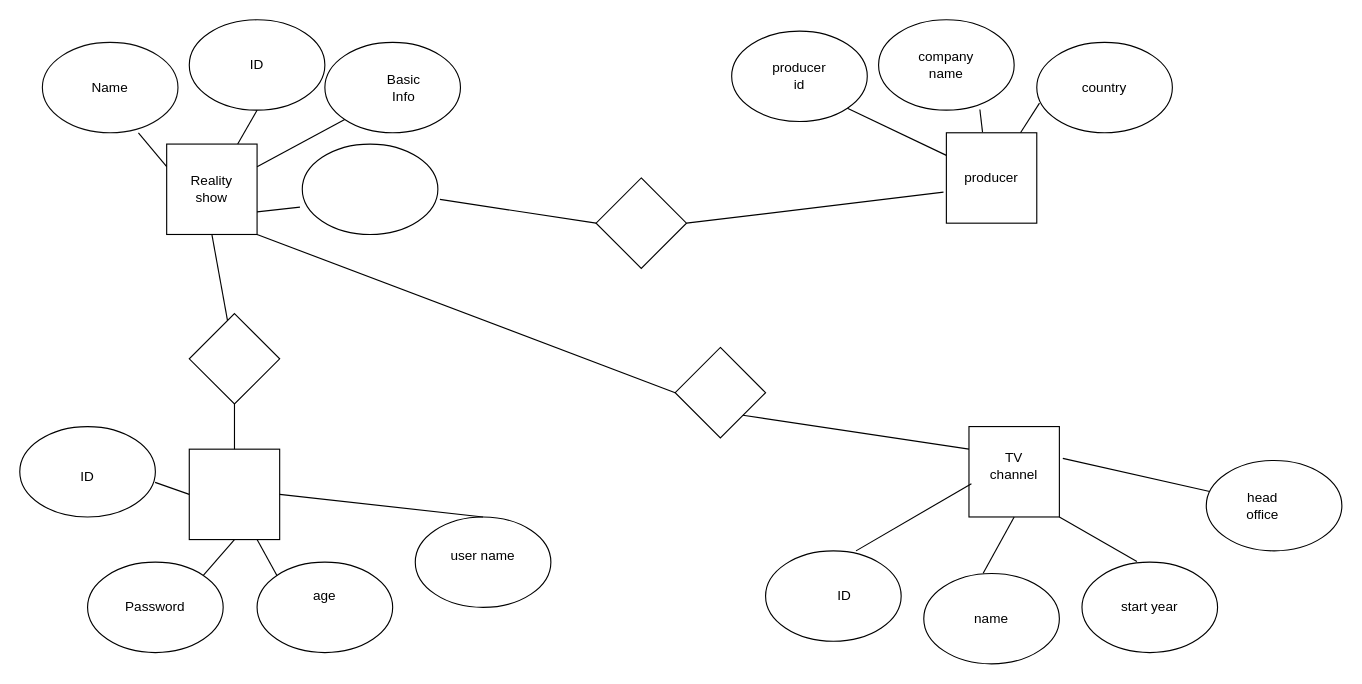
This 1362x684 diagram has some shape labels left out. Each missing label, with the box of its shape:
broadcast: (674, 346, 766, 438)
Participant Name: (301, 143, 438, 234)
produce: (595, 177, 686, 268)
rate: (188, 312, 280, 404)
User: (188, 448, 280, 540)
